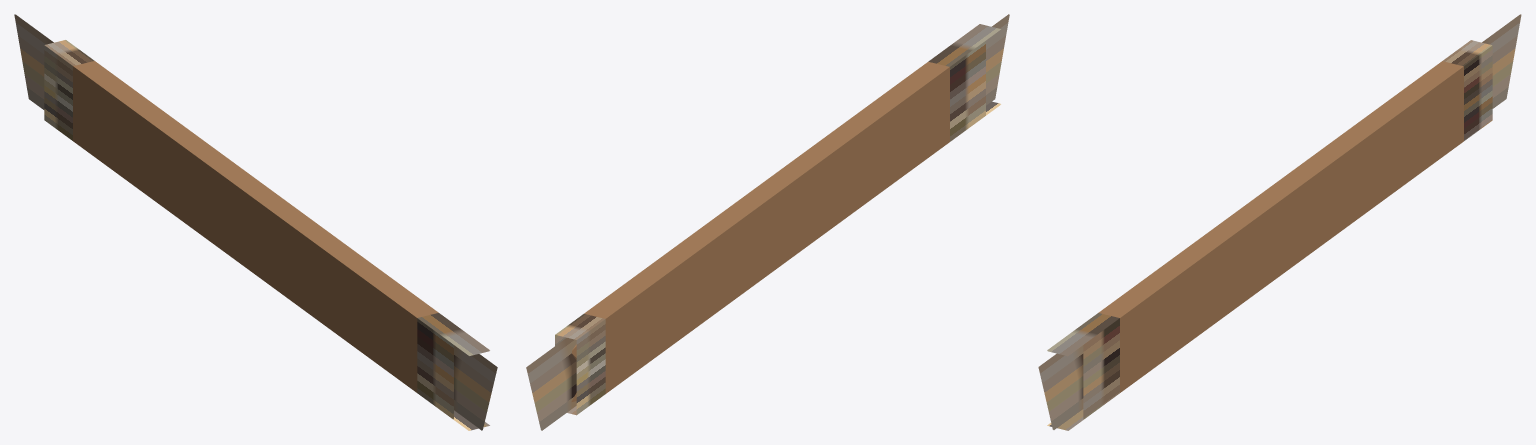
Rendered from DBK_WoodFrame_Alone_D.fbx.
3 renders of one model, left to right at view 1: azimuth 30°, elevation 25°; view 2: azimuth 150°, elevation 25°; view 3: azimuth 330°, elevation 25°, orthographic.
Visible parts, largest first — view 1: DBK_WoodFrame_Alone_D; view 2: DBK_WoodFrame_Alone_D; view 3: DBK_WoodFrame_Alone_D.
Boxes of the visible parts, x1,y1,x2,y2 form: DBK_WoodFrame_Alone_D: (14,14,497,430); DBK_WoodFrame_Alone_D: (526,14,1009,430); DBK_WoodFrame_Alone_D: (1038,14,1521,430).
Bounding box in the file's own units: 5 × 16.58 × 193.
